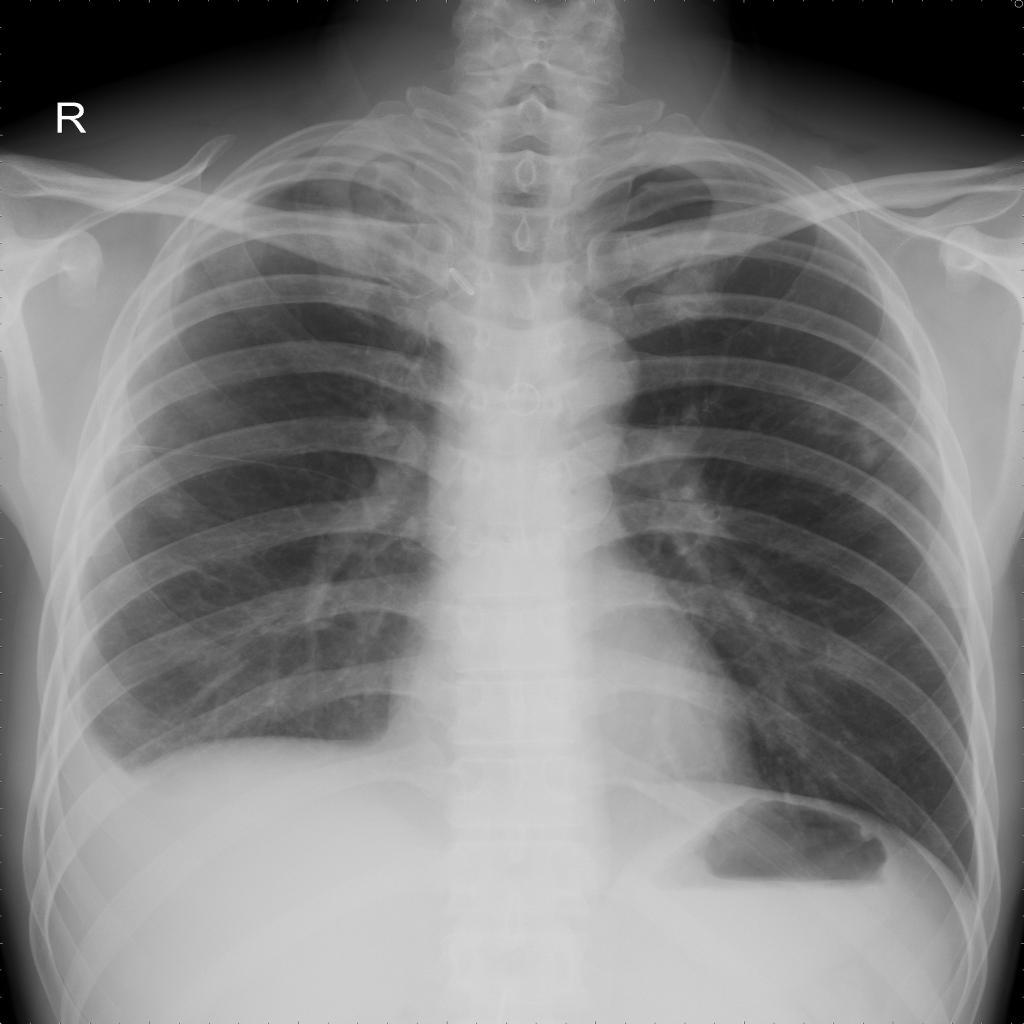Nodule: (155, 503, 186, 522)
